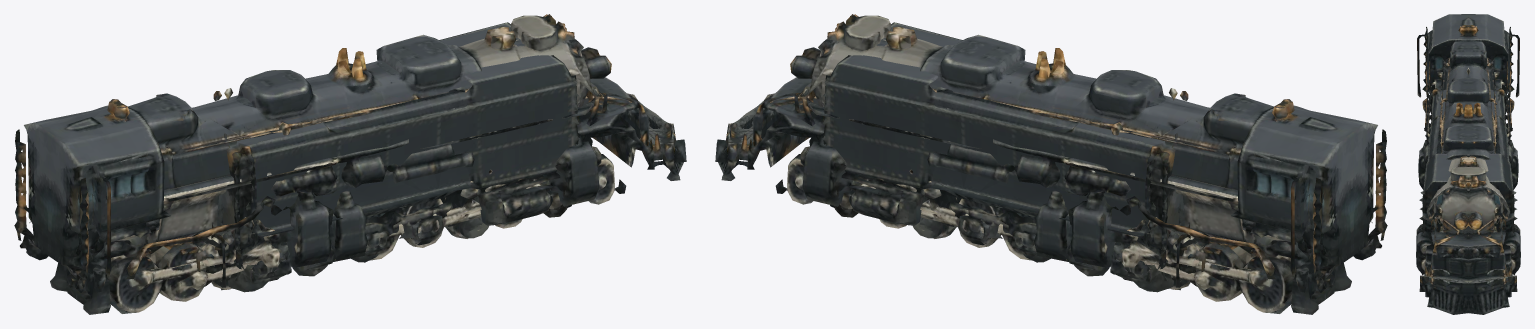
File: big_boy.glb
The picture shows the model from 3 angles, left to right: view 1: azimuth 30°, elevation 25°; view 2: azimuth 150°, elevation 25°; view 3: azimuth 270°, elevation 25°; orthographic projection. The views are drawn at different scales.
Visible parts, largest first — view 1: engine, tender, engine.mirror, tender.mirror; view 2: engine.mirror, tender.mirror, engine, tender; view 3: engine, engine.mirror, tender, tender.mirror.
Part boxes in pixels (bbox=[...]): engine: bbox=[49, 21, 686, 314]; tender: bbox=[196, 39, 579, 292]; engine.mirror: bbox=[14, 14, 655, 299]; tender.mirror: bbox=[439, 22, 519, 46]; engine.mirror: bbox=[715, 21, 1352, 314]; tender.mirror: bbox=[822, 39, 1205, 292]; engine: bbox=[746, 14, 1387, 299]; tender: bbox=[882, 22, 962, 46]; engine: bbox=[1416, 14, 1468, 314]; engine.mirror: bbox=[1468, 14, 1520, 314]; tender: bbox=[1416, 80, 1456, 254]; tender.mirror: bbox=[1480, 80, 1520, 254].
Bounding box in the file's own units: 15.52 × 4.73 × 3.52.
Materials: 1 (1 with a texture image).
